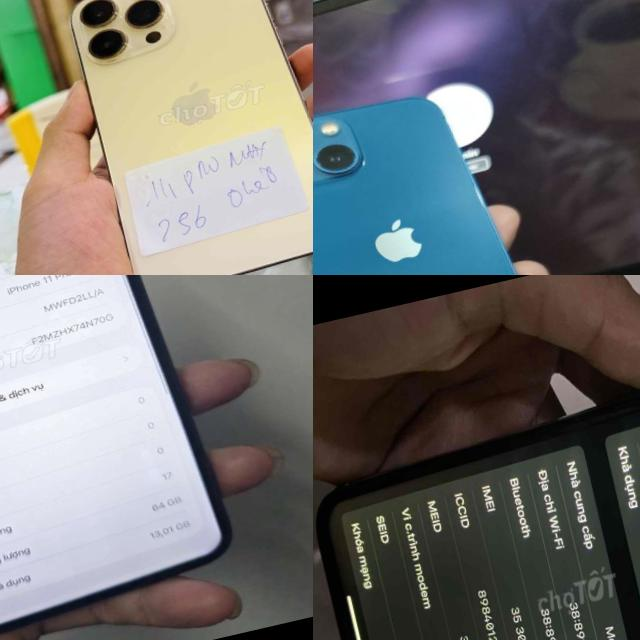gen_11: (0, 275, 259, 640)
gen_12_13: (313, 61, 566, 275)
gen_14: (41, 0, 313, 275)
gen_x_xs: (316, 393, 640, 640)
